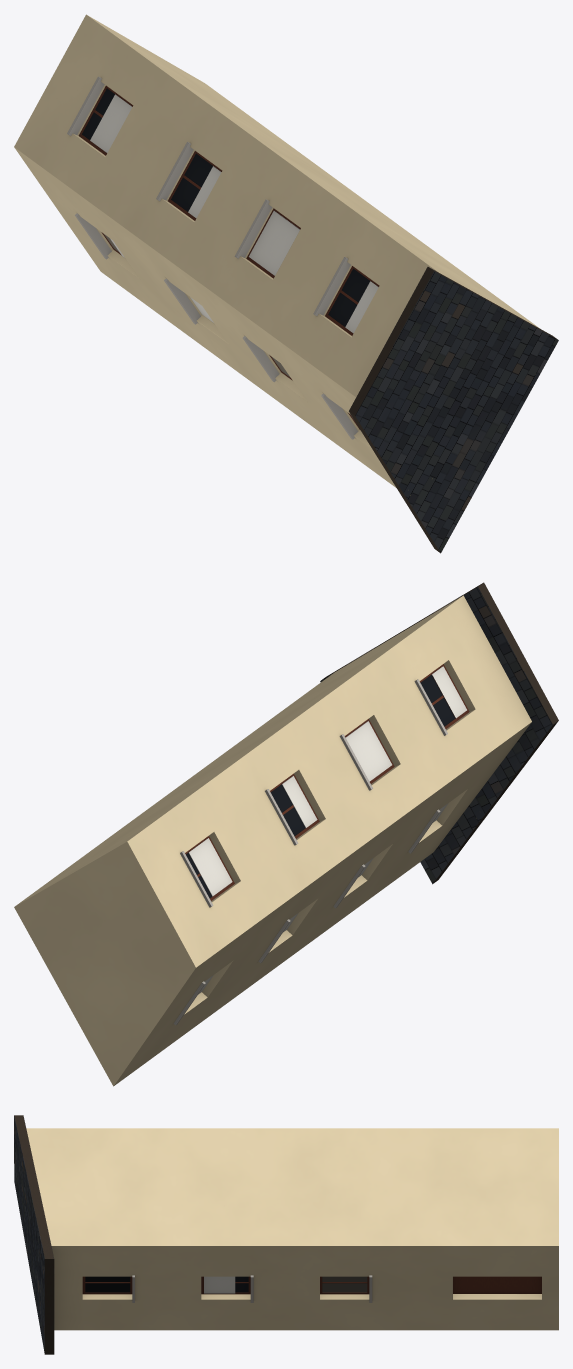
File: house_b0491.obj
3 renders of one model, top to bottom at view 1: azimuth 30°, elevation 25°; view 2: azimuth 150°, elevation 25°; view 3: azimuth 270°, elevation 25°, orthographic. The views are drawn at different scales.
Parts seen in each view (by area): view 1: house_b0491; view 2: house_b0491; view 3: house_b0491.
Boxes of the visible parts, x1,y1,x2,y2 form: house_b0491: (14,14,558,553); house_b0491: (14,582,558,1086); house_b0491: (14,1115,558,1354).
Bounding box in the file's own units: 4.94 × 6.4 × 13.78.
Materials: 1 (1 with a texture image).
